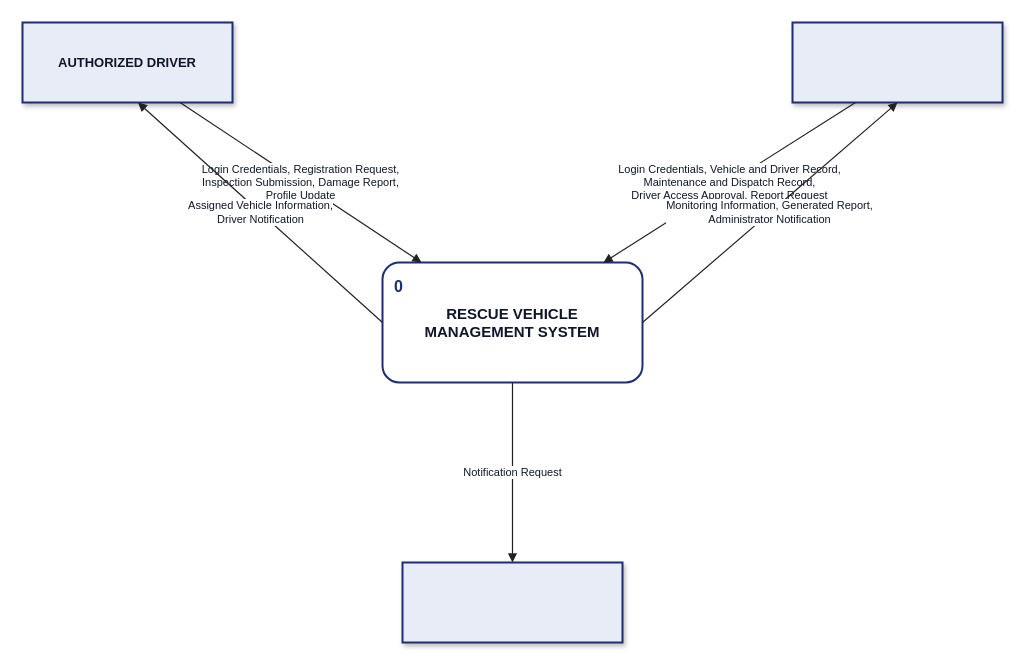
This 1026x667 diagram has some shape labels left out. Here are the shapes that lost their labels. From the top down, the centre of each, then its label:
At (898,63): "AGENCY ADMINISTRATOR".
At (513,603): "FIREBASE CLOUD MESSAGING (FCM)".
